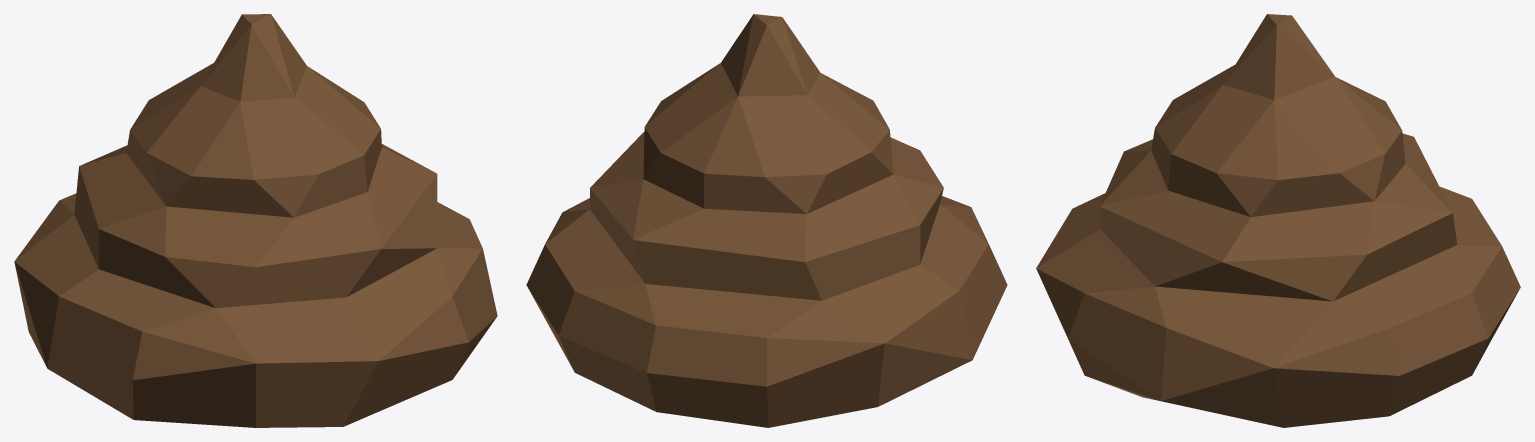
File: Poop_Triangles_V1.fbx
3 views of the same model, side by side, from view 1: azimuth 30°, elevation 25°; view 2: azimuth 150°, elevation 25°; view 3: azimuth 270°, elevation 25° (orthographic). The views are drawn at different scales.
Parts seen in each view (by area): view 1: Poop_Triangles; view 2: Poop_Triangles; view 3: Poop_Triangles.
Boxes of the visible parts, bbox=[...] form: Poop_Triangles: bbox=[14, 14, 497, 427]; Poop_Triangles: bbox=[526, 14, 1007, 427]; Poop_Triangles: bbox=[1036, 14, 1520, 427].
Size of the model in its own units: 269 by 203 by 272.
